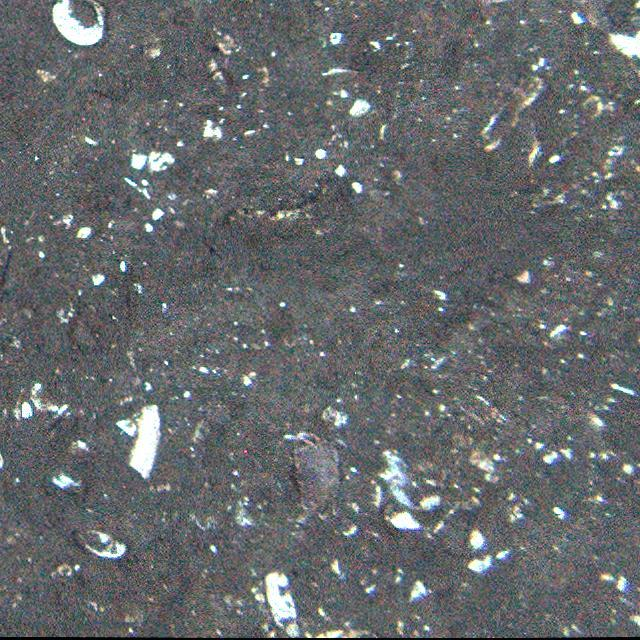crab: (288, 429, 344, 520)
